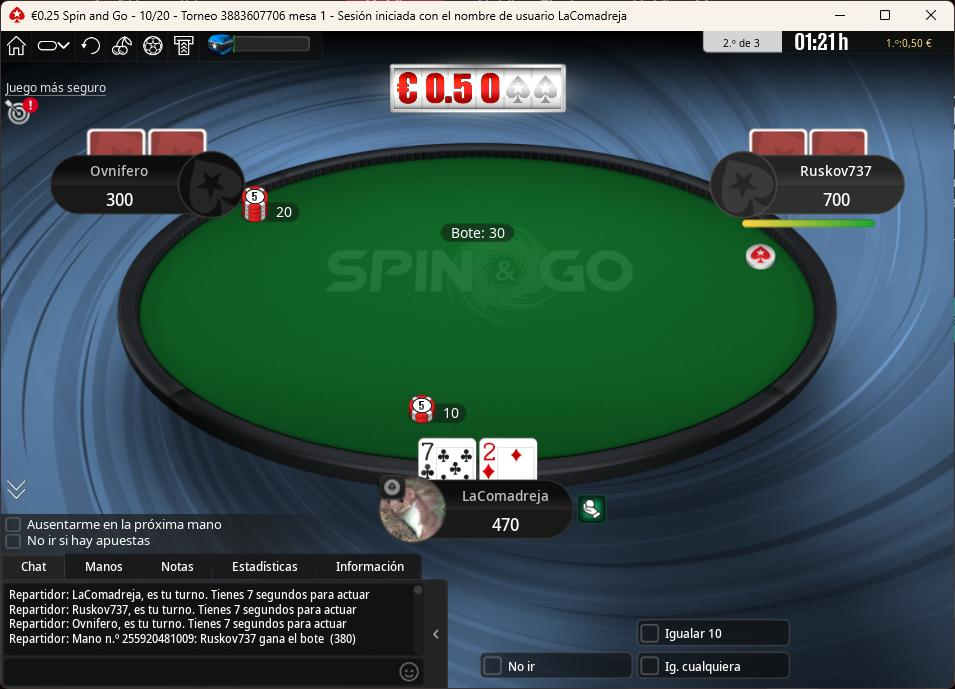Dealer: (747, 239, 776, 273)
HiddenCards: (87, 127, 205, 161), (747, 127, 866, 157)
Player: (713, 151, 913, 218), (51, 151, 241, 221)
PlayerBet: (242, 184, 304, 227)
PlayerChips: (483, 519, 532, 537), (816, 191, 861, 210)
Pot: (438, 221, 518, 244)
PreButtonCall: (637, 616, 798, 649)
PreButtonCallAny: (636, 651, 797, 684)
PreButtonFold: (478, 646, 635, 683)
PrincipalBet: (406, 390, 474, 429)
PrincipalCards: (417, 434, 541, 480)
PrincipalCards1: (479, 436, 543, 482)
PrincipalCards2: (414, 436, 477, 483)
PrincipalPlayer: (376, 471, 575, 546)
SmallBigBlind: (129, 4, 180, 25)
